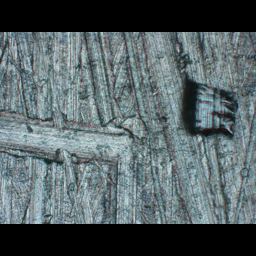d: (0, 109, 146, 172), (171, 70, 238, 143), (104, 124, 142, 223)
